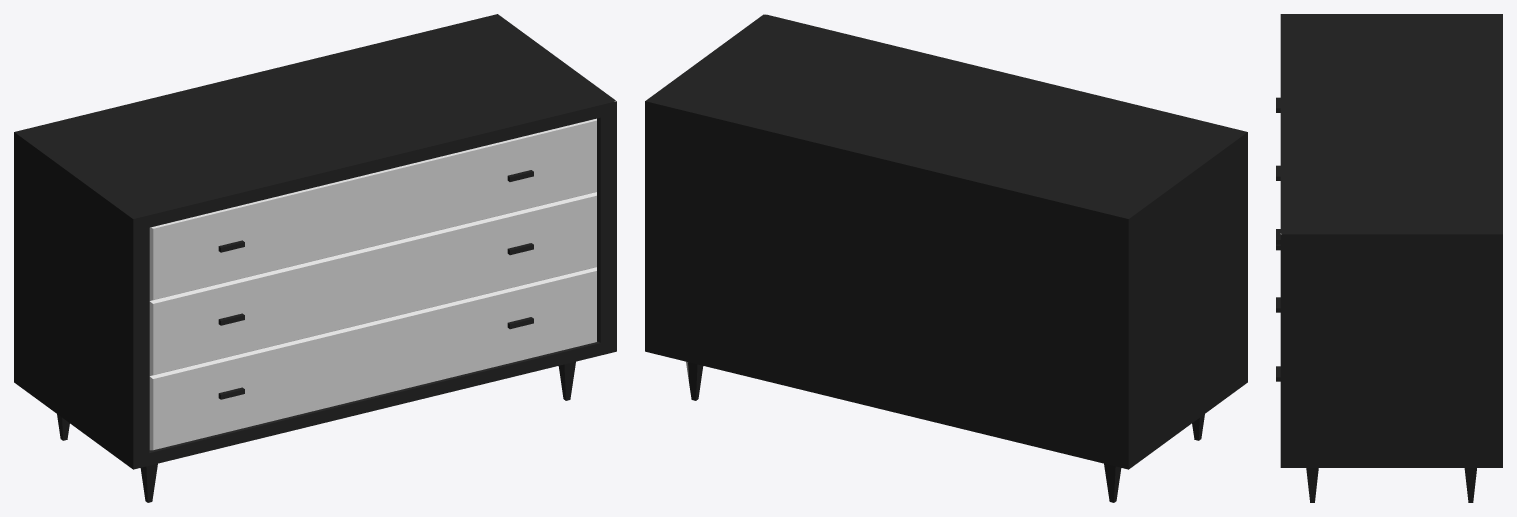
File: ComodaBlancayNegra.fbx
The picture shows the model from 3 angles, left to right: view 1: azimuth 30°, elevation 25°; view 2: azimuth 150°, elevation 25°; view 3: azimuth 270°, elevation 25°; orthographic projection. The views are drawn at different scales.
Visible parts, largest first — view 1: Comoda; view 2: Comoda; view 3: Comoda.
Boxes of the visible parts, box(x1,y1,x2,y2) form: Comoda: box(14, 14, 616, 502); Comoda: box(645, 14, 1247, 502); Comoda: box(1276, 14, 1502, 502).
Size of the model in its own units: 176 by 106 by 76.73.
